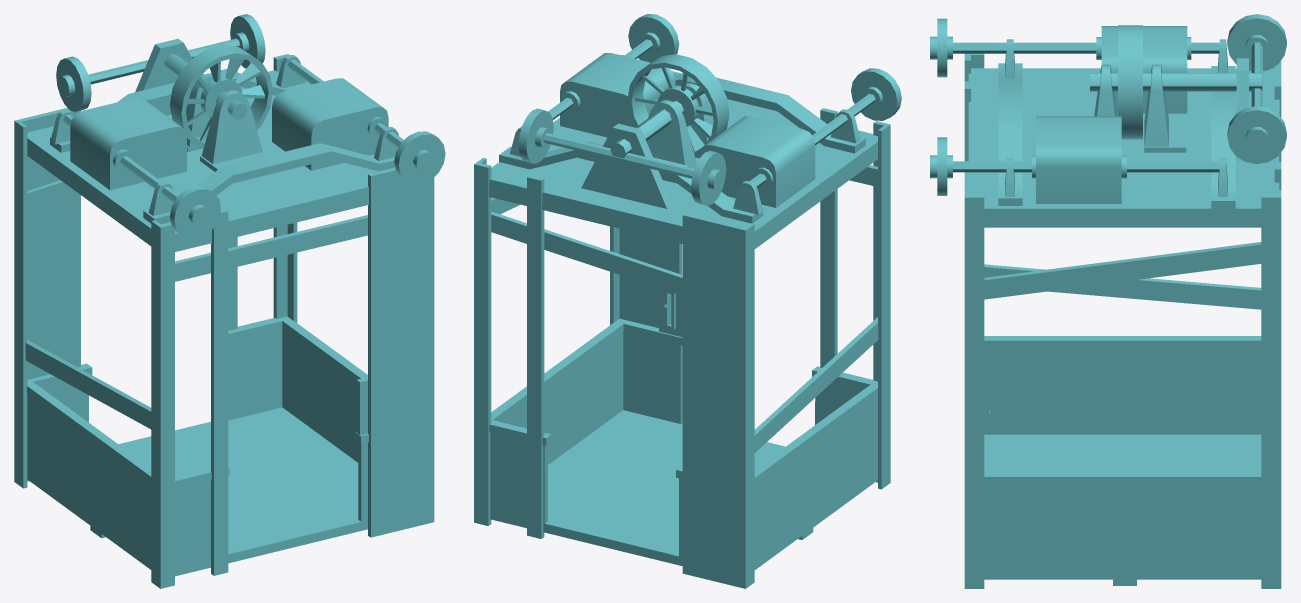
File: Elevator_Cabin.fbx
3 views of the same model, side by side, from view 1: azimuth 30°, elevation 25°; view 2: azimuth 150°, elevation 25°; view 3: azimuth 270°, elevation 25° (orthographic). The views are drawn at different scales.
Visible parts, largest first — view 1: Elevator_Cabin; view 2: Elevator_Cabin; view 3: Elevator_Cabin.
Boxes of the visible parts, left/top/right/bottom form: Elevator_Cabin: left=14, top=14, right=445, bottom=588; Elevator_Cabin: left=474, top=14, right=901, bottom=588; Elevator_Cabin: left=930, top=14, right=1286, bottom=588.
Size of the model in its own units: 315 by 522 by 329.
